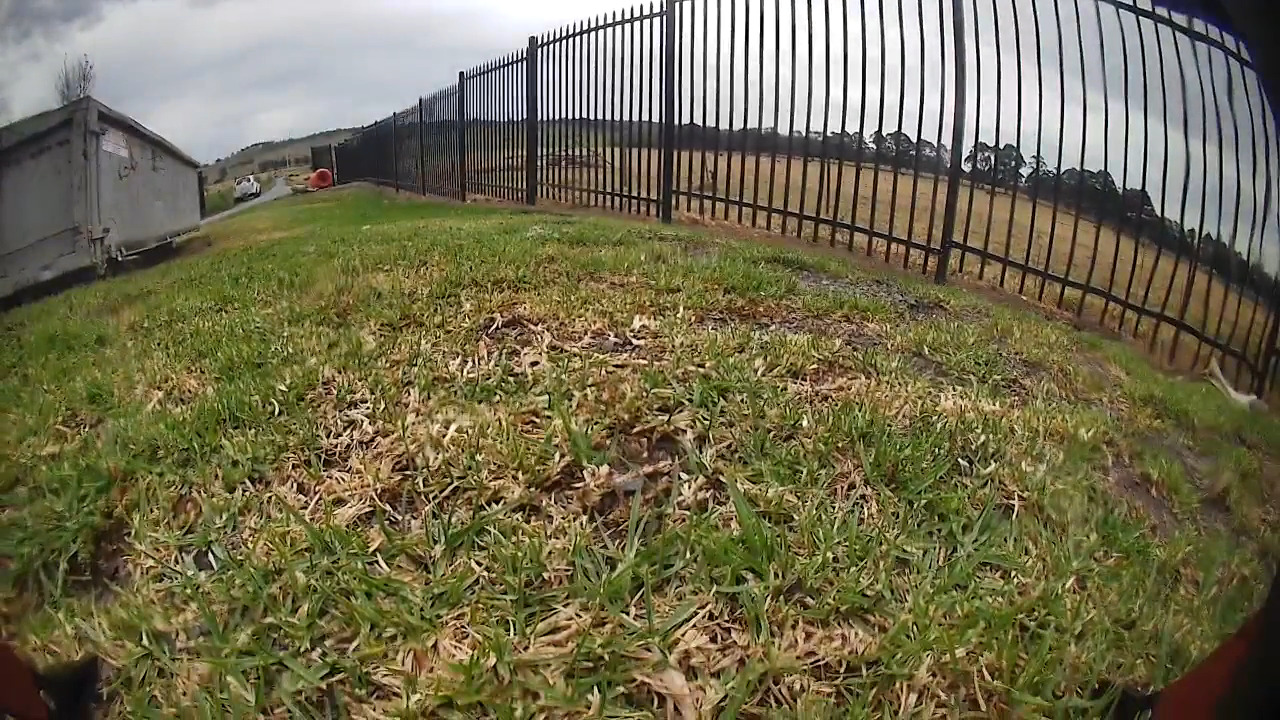Car: (234, 175, 260, 201)
